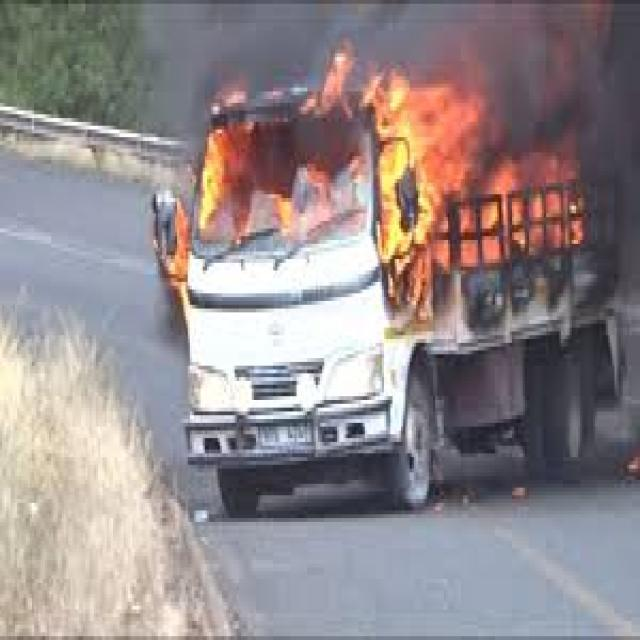Fire: (160, 42, 468, 336), (476, 148, 591, 266)
Smoke: (478, 6, 636, 140), (144, 0, 470, 35), (596, 146, 640, 273)
